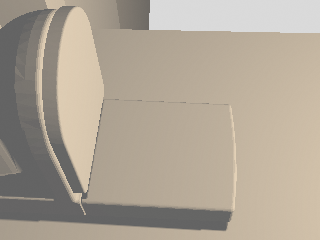lid_1: (42, 7, 103, 193)
